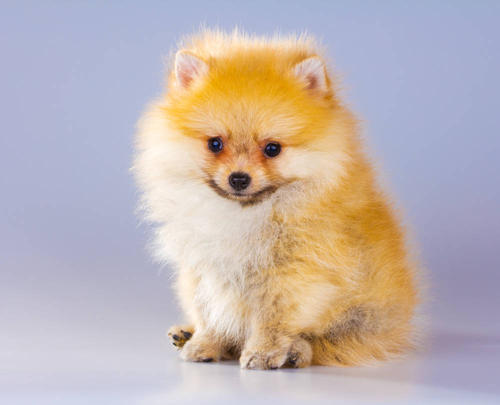dog: (139, 41, 346, 219)
